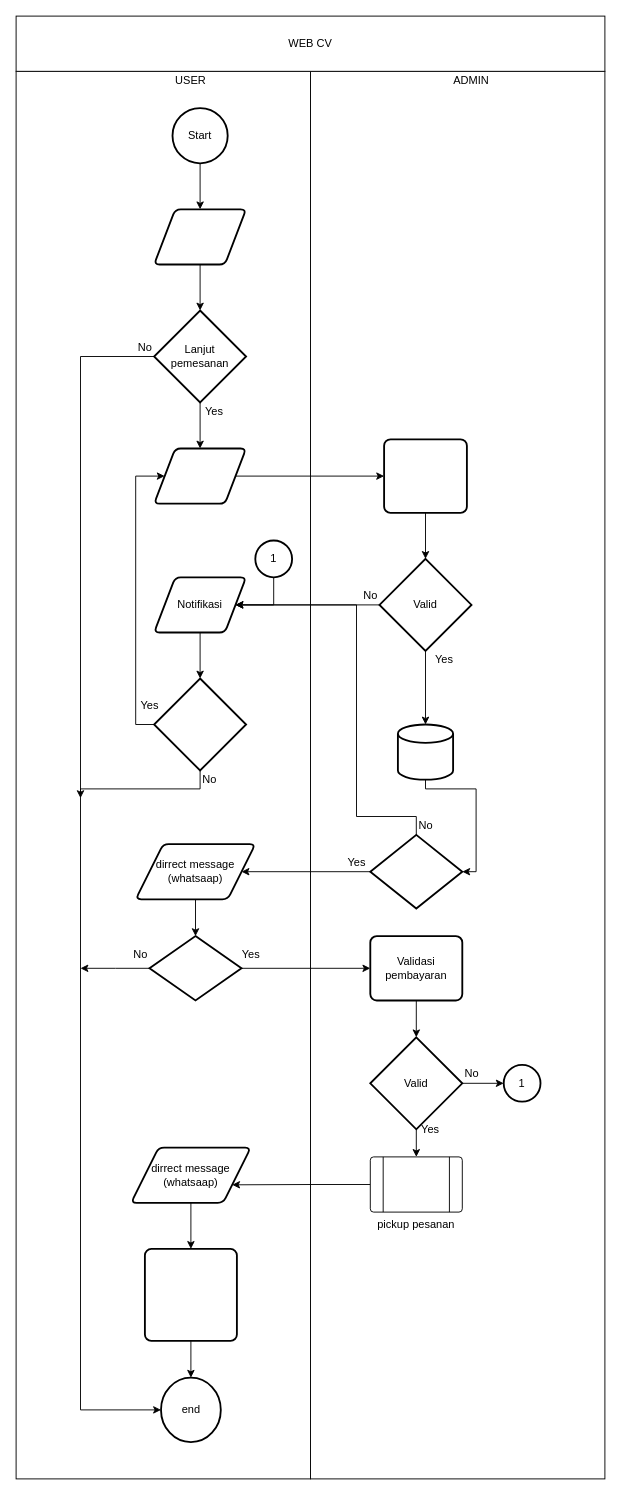
This 621x1495 diagram has some shape labels left out. The shapes that lost their labels are listed below. From the top down, each one's centre as x and y in pixels, then its label:
At pixel 200 236: "Tampilan web".
At pixel 200 475: "Input data pemesanan".
At pixel 425 475: "validasi email".
At pixel 200 724: "Lanjut".
At pixel 416 871: "approve".
At pixel 195 968: "Setuju dan membayar".
At pixel 190 1294: "Menunggu Tukang datang".
